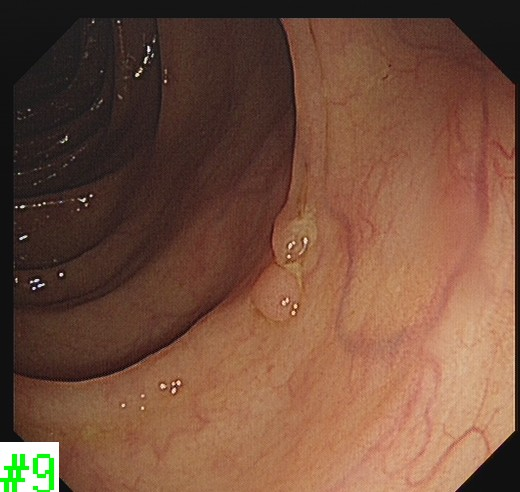adenoma: (248, 260, 302, 325)
